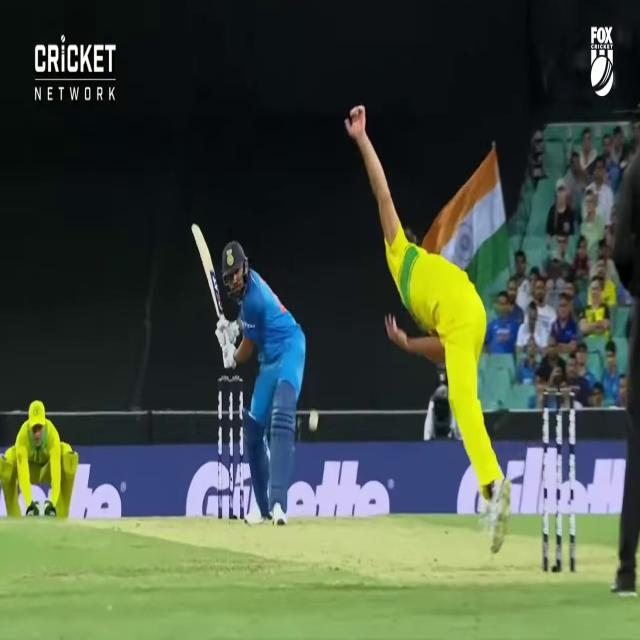ball: (309, 408, 319, 431)
stump: (218, 377, 244, 520)
